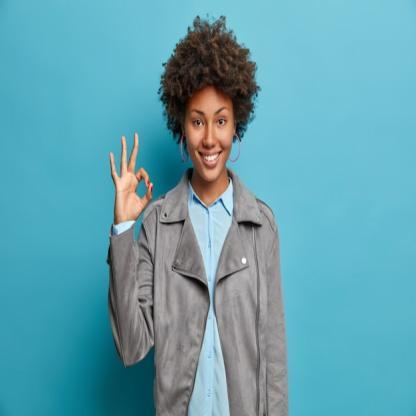ok: (109, 130, 156, 224)
